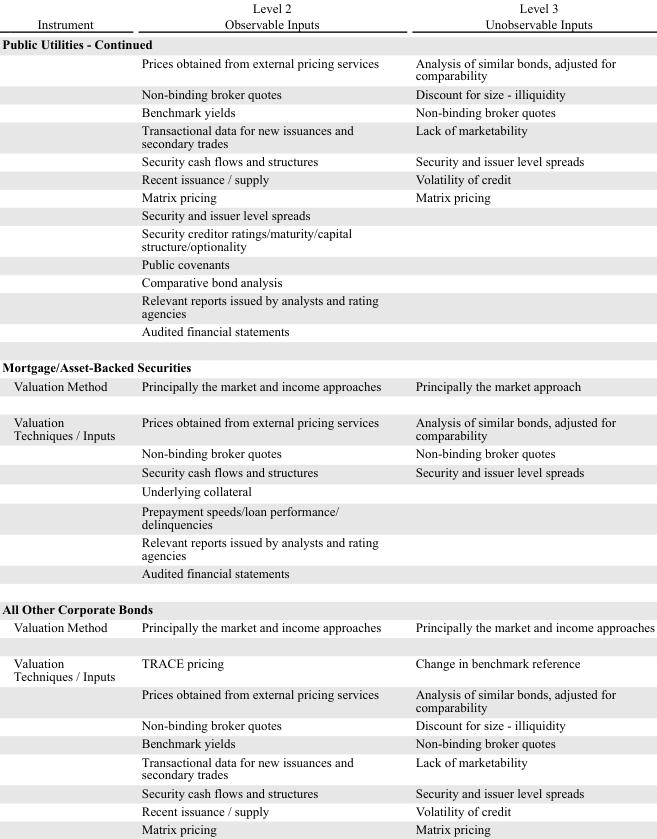table: (1, 0, 654, 835)
table column: (127, 0, 397, 835), (397, 0, 654, 835), (1, 0, 127, 835)
table column header: (1, 0, 654, 33)
table projected row header: (1, 348, 654, 376), (1, 590, 654, 617), (1, 33, 654, 53)
table row: (1, 403, 654, 443), (1, 678, 654, 715), (1, 644, 654, 678), (1, 0, 654, 33), (1, 500, 654, 532), (1, 53, 654, 84), (1, 120, 654, 151), (1, 223, 654, 254), (1, 290, 654, 321), (1, 532, 654, 563), (1, 752, 654, 783), (1, 348, 654, 376), (1, 321, 654, 348), (1, 376, 654, 403), (1, 563, 654, 590), (1, 590, 654, 617), (1, 617, 654, 644), (1, 33, 654, 53), (1, 443, 654, 462), (1, 462, 654, 481), (1, 481, 654, 500), (1, 715, 654, 734), (1, 84, 654, 102), (1, 102, 654, 120), (1, 151, 654, 169), (1, 169, 654, 187), (1, 187, 654, 205), (1, 205, 654, 223), (1, 254, 654, 272), (1, 272, 654, 290), (1, 734, 654, 752), (1, 783, 654, 801), (1, 801, 654, 819), (1, 819, 654, 835)
table spanning cell: (1, 644, 127, 835), (1, 403, 127, 590)
